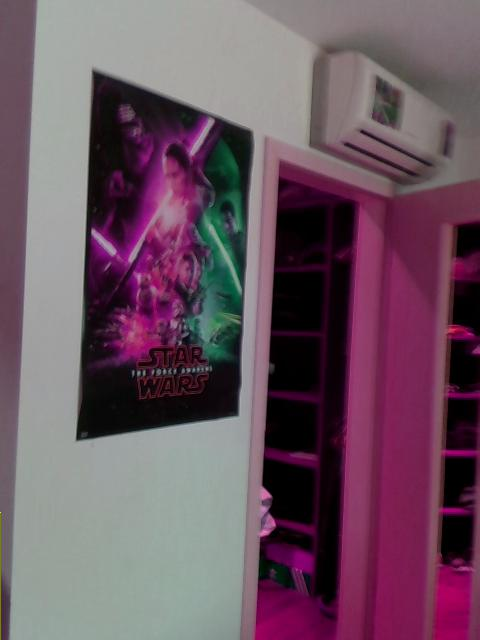open_door: (239, 133, 405, 639)
